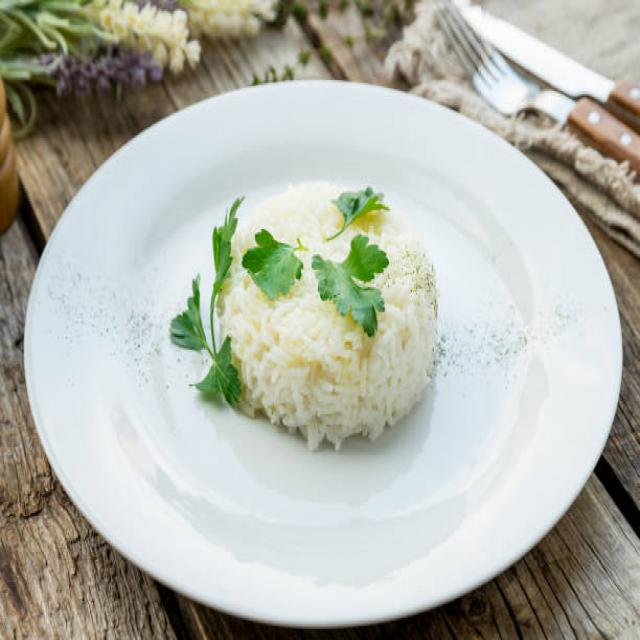rice: (218, 180, 439, 452)
